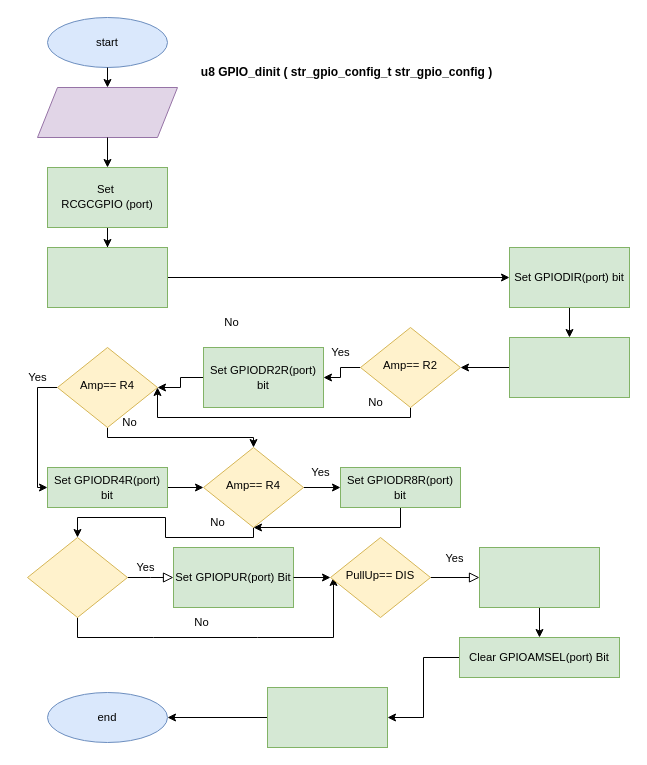
Some shapes in this 647 by 765 pixel diagram are drawn without their labels. The shapes that lost their labels are listed below. From the top down, each one's box as (x1, y1, x2, y2) in pixels, then its label:
(36, 86, 178, 138): str_gpio_config
(46, 246, 168, 308): Set GPIOCR (port) bit
(508, 336, 630, 398): Clear GPIOAFSEL(port) Bit
(26, 536, 128, 618): PullUp== EN
(478, 546, 600, 608): Clear GPIOPUR(port) bit
(266, 686, 388, 748): Set GPIODEN(port) Bit
